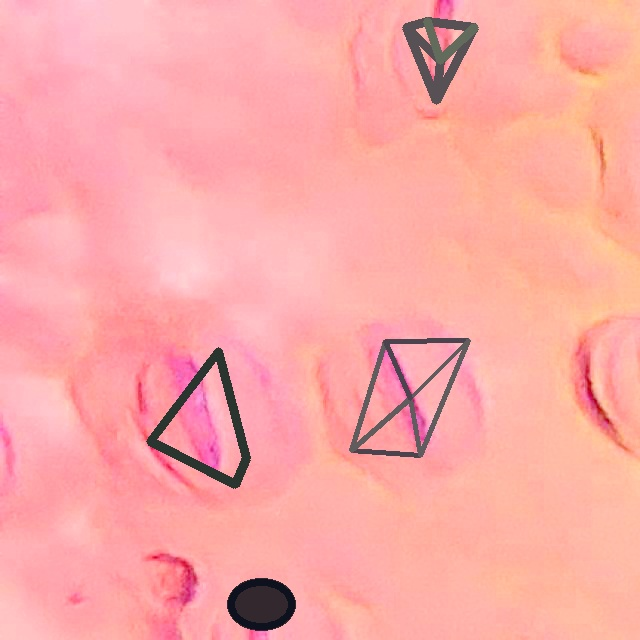open: (146, 347, 250, 488), (349, 339, 470, 457), (402, 17, 478, 104), (227, 578, 295, 631)
